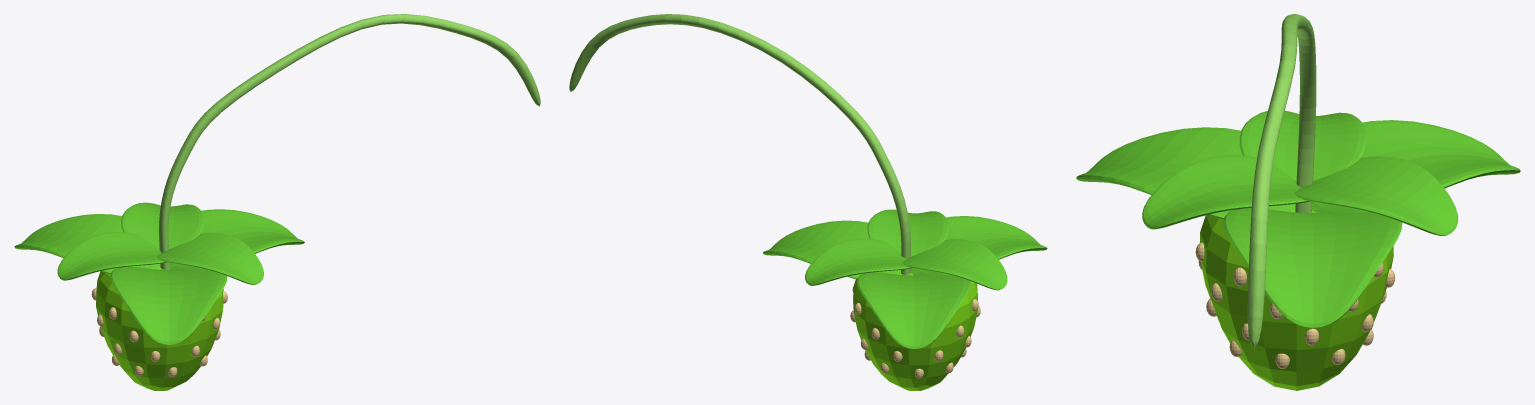
File: strwGreenFruit.fbx
3 renders of one model, left to right at view 1: azimuth 30°, elevation 25°; view 2: azimuth 150°, elevation 25°; view 3: azimuth 270°, elevation 25°, orthographic. The views are drawn at different scales.
Visible parts, largest first — view 1: Stem.004; view 2: Stem.004; view 3: Stem.004.
Boxes of the visible parts, x1,y1,x2,y2 form: Stem.004: (14, 14, 540, 390); Stem.004: (569, 14, 1047, 390); Stem.004: (1076, 14, 1520, 390).
Bounding box in the file's own units: 190 × 127 × 104.
